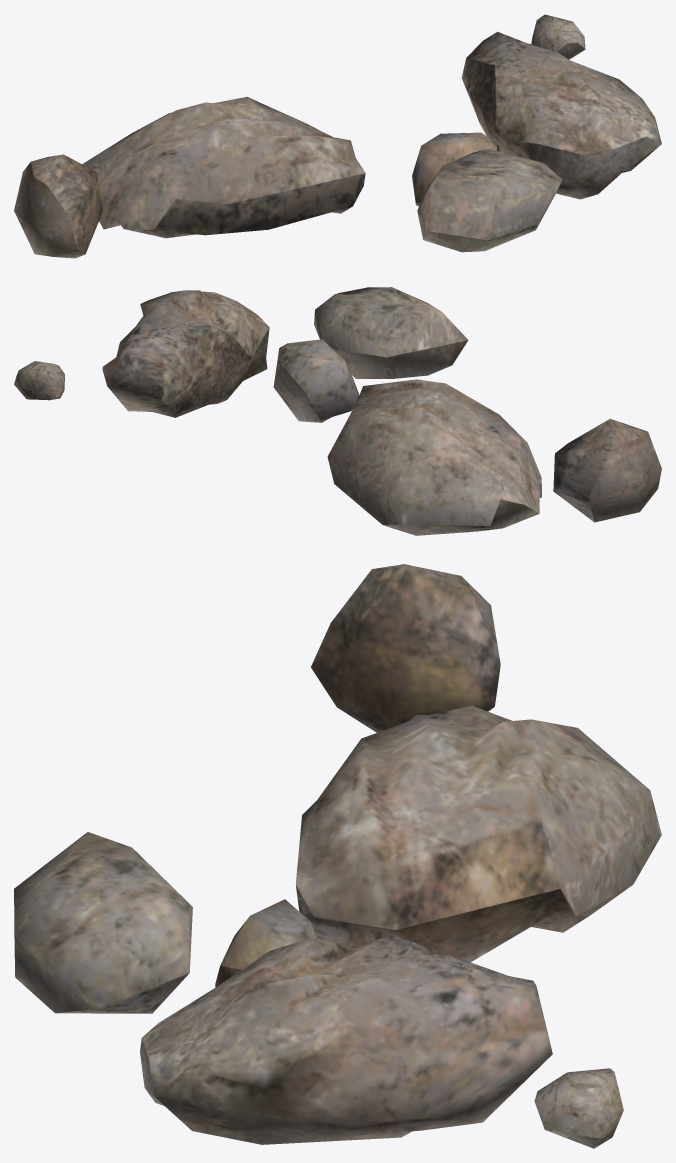
File: SM_Stone14.FBX
3 renders of one model, top to bottom at view 1: azimuth 30°, elevation 25°; view 2: azimuth 150°, elevation 25°; view 3: azimuth 270°, elevation 25°, orthographic. The views are drawn at different scales.
Parts seen in each view (by area): view 1: SM_Stone14; view 2: SM_Stone14; view 3: SM_Stone14.
Boxes of the visible parts, bbox=[...] form: SM_Stone14: bbox=[14, 14, 661, 258]; SM_Stone14: bbox=[14, 287, 661, 535]; SM_Stone14: bbox=[14, 564, 661, 1148].
Bounding box in the file's own units: 482 × 263 × 93.89.
